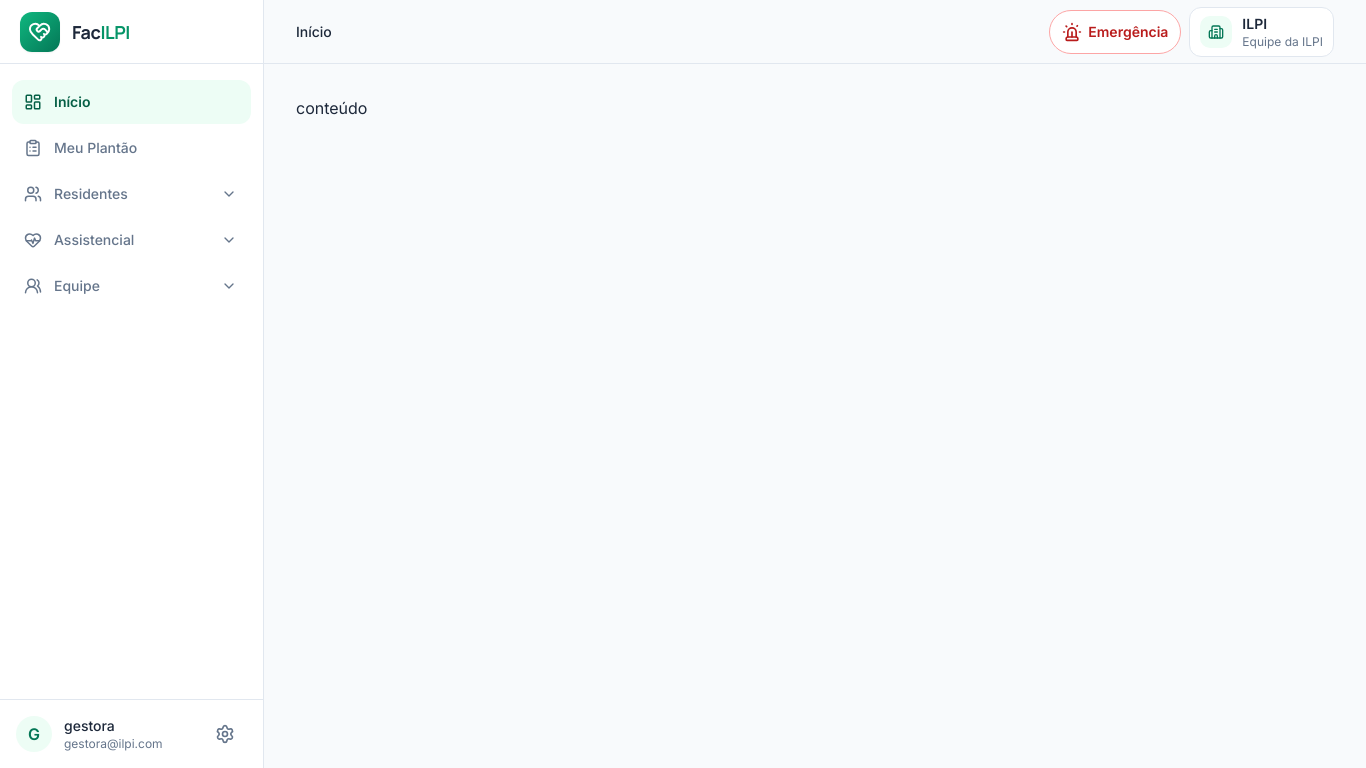
Test: UX-00B — sidebar em accordion › fora de um grupo começa recolhido e o chevron expande e recolhe
Expected: the link "Admissões" is not shown
Click the button named "Submenu de Residentes". click: (229, 194)
box: [207, 172, 251, 216]
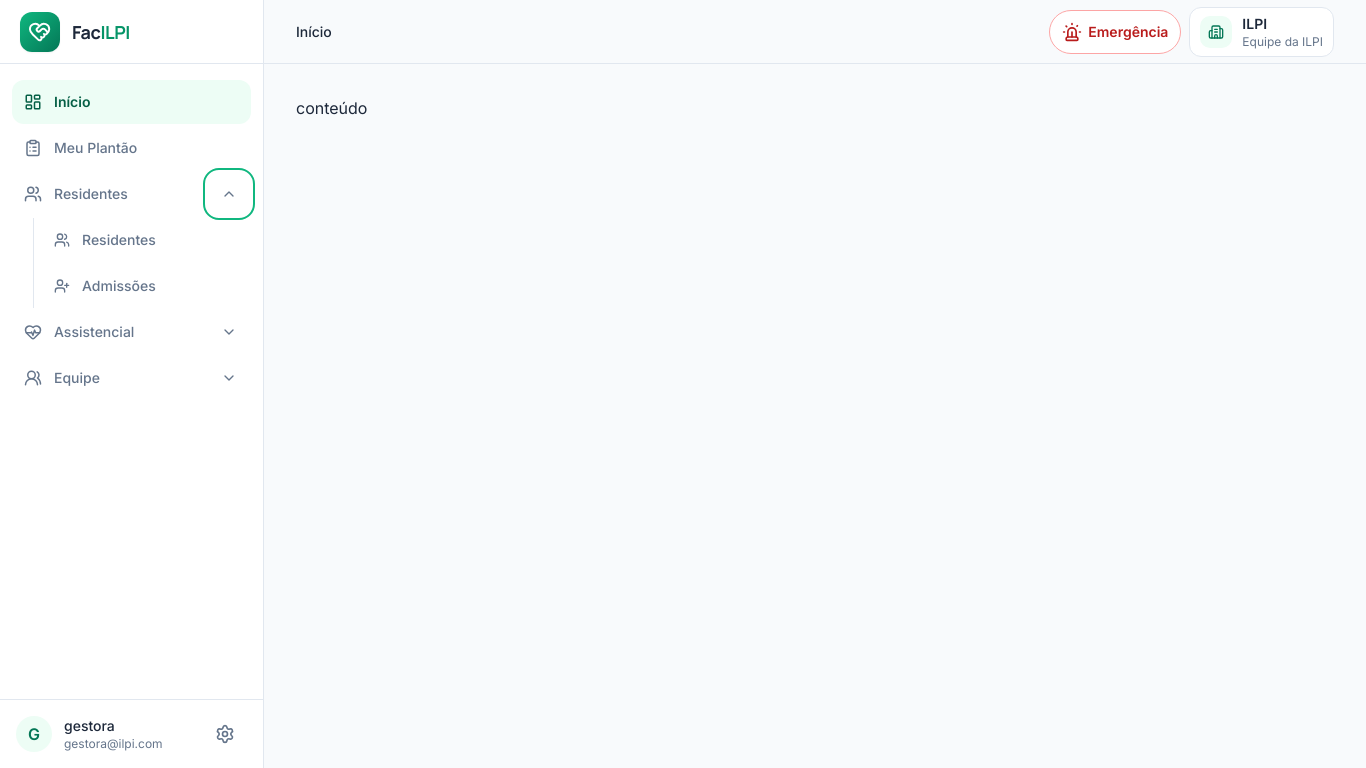
Now the button named "Submenu de Residentes" is expanded
Now the link "Admissões" is shown, box [54, 277, 156, 294]
Click the button named "Submenu de Residentes". click: (229, 194)
box: [207, 172, 251, 216]
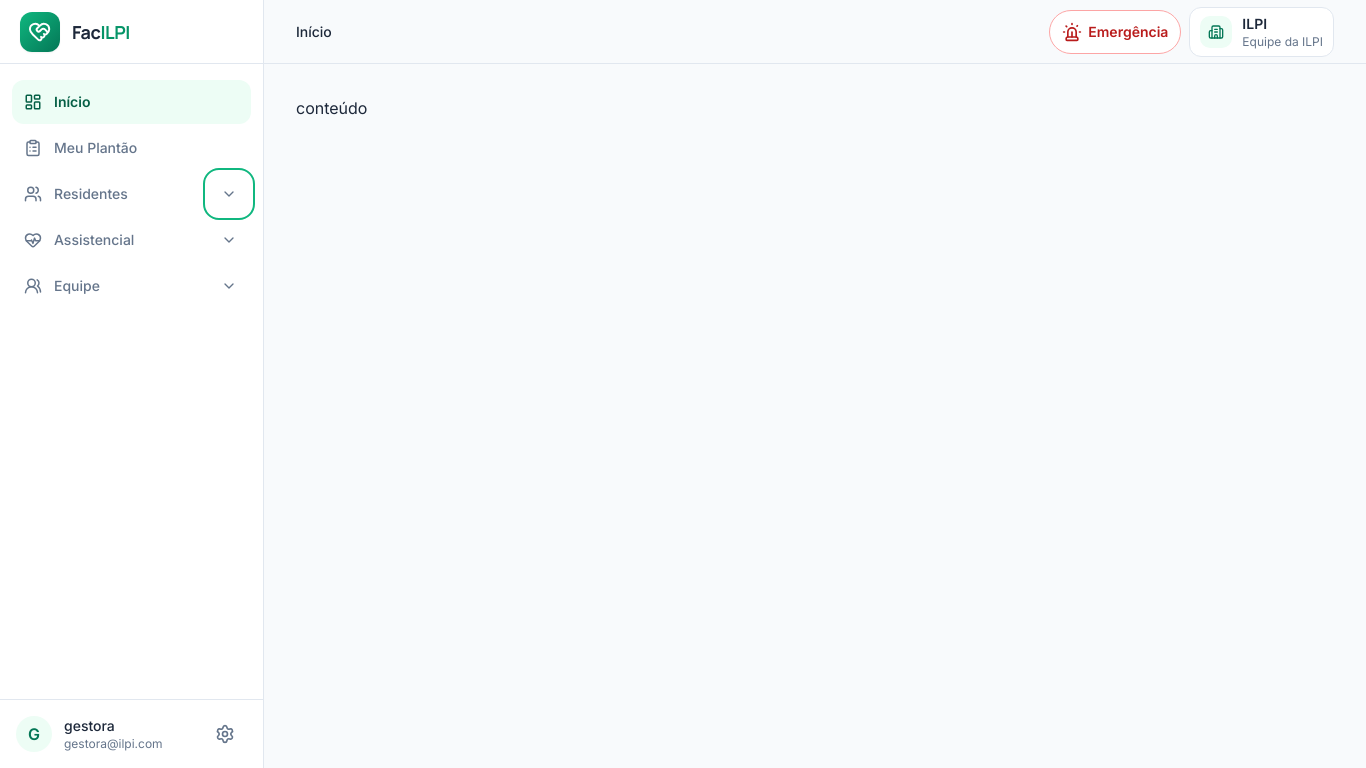
Now the button named "Submenu de Residentes" is collapsed, box [207, 172, 251, 216]
Now the link "Admissões" is gone
